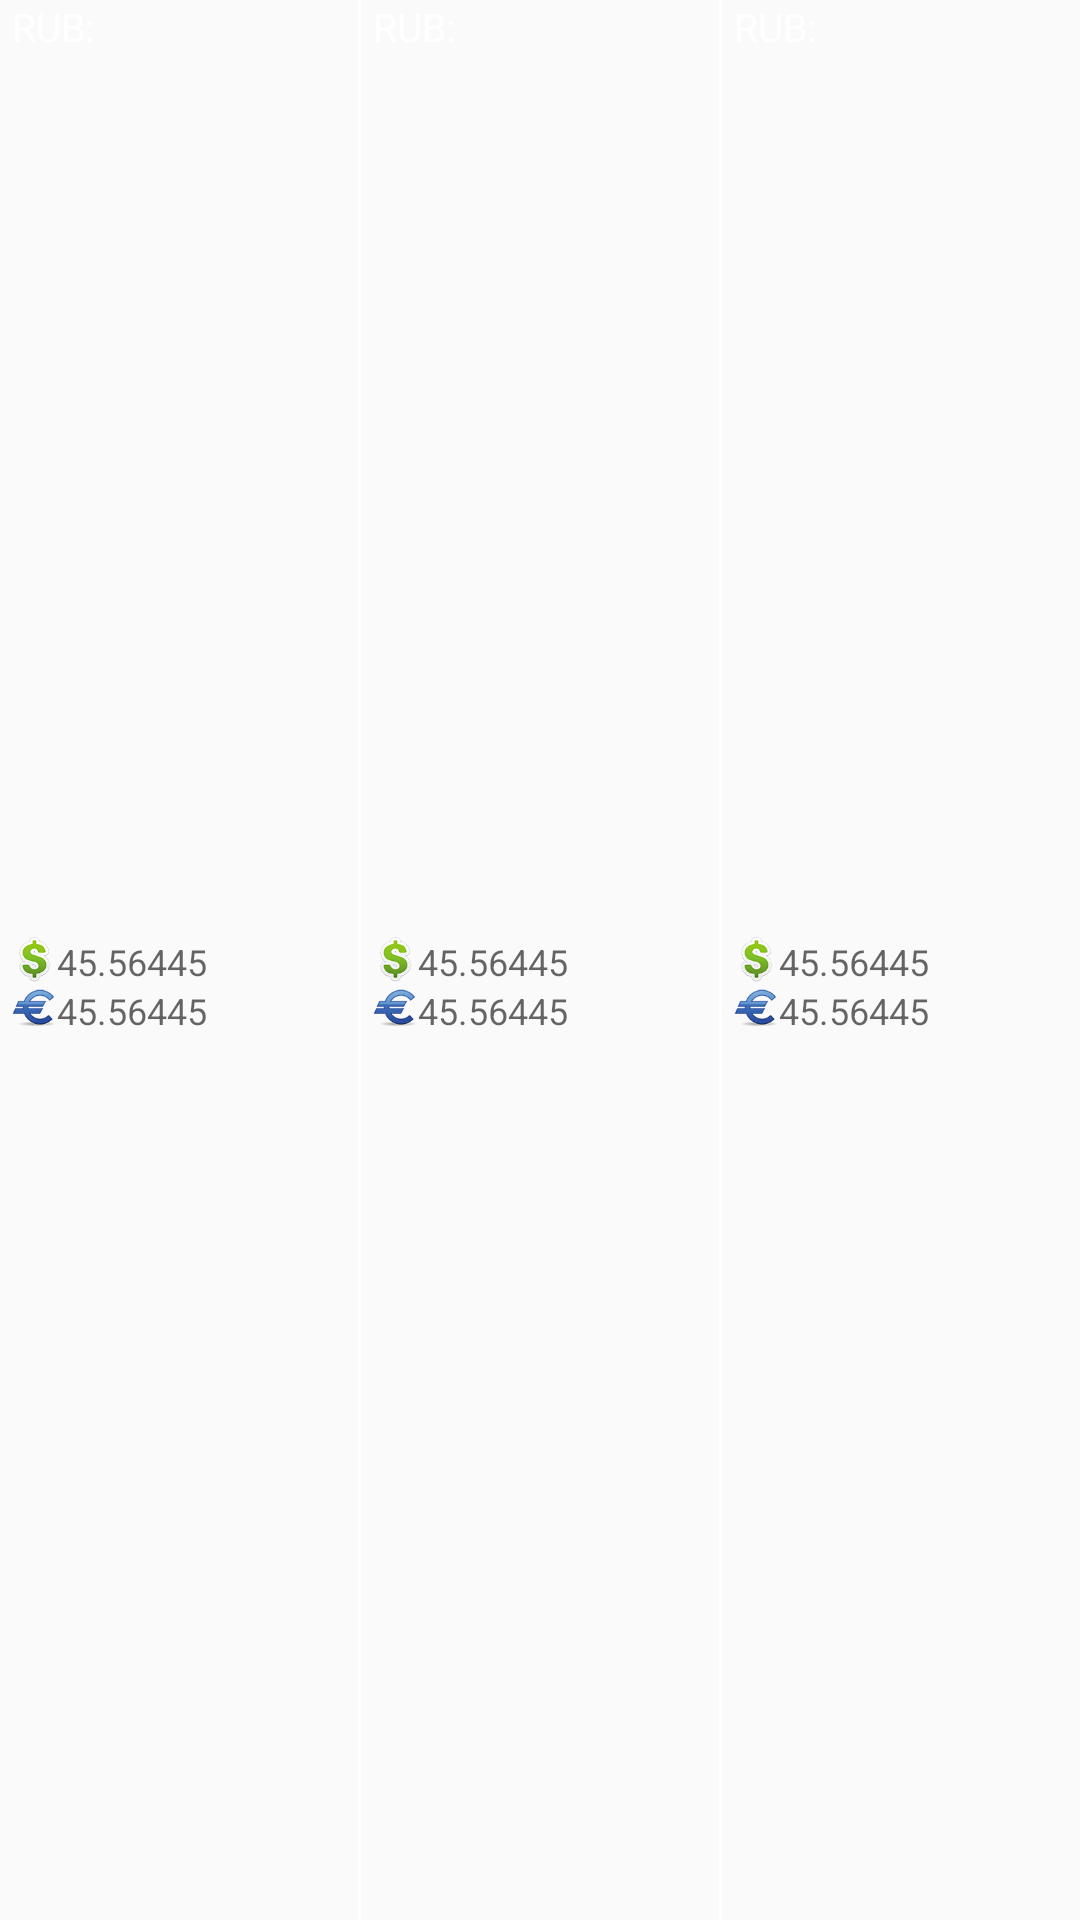

Point at icon controls on the screen. Image size 1080px×1920px, points as (x,y).
dollar: (34,959), (395,959), (756,959)
eur: (33,1007), (394,1007), (755,1007)
